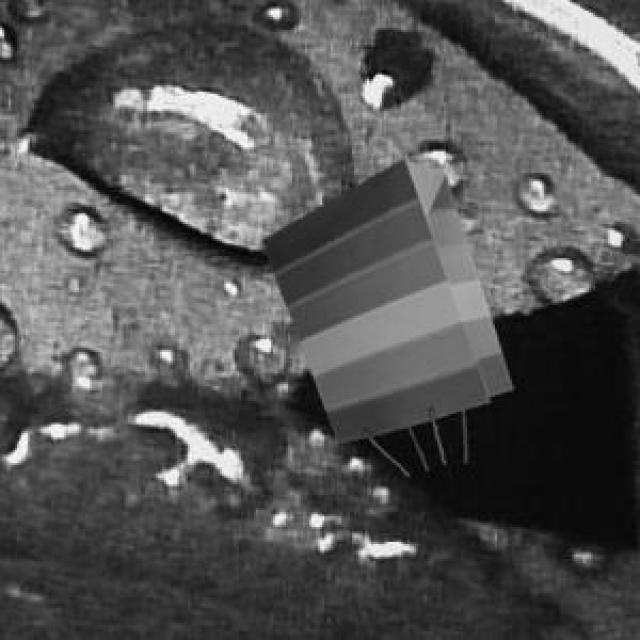paper: (258, 156, 508, 437)
